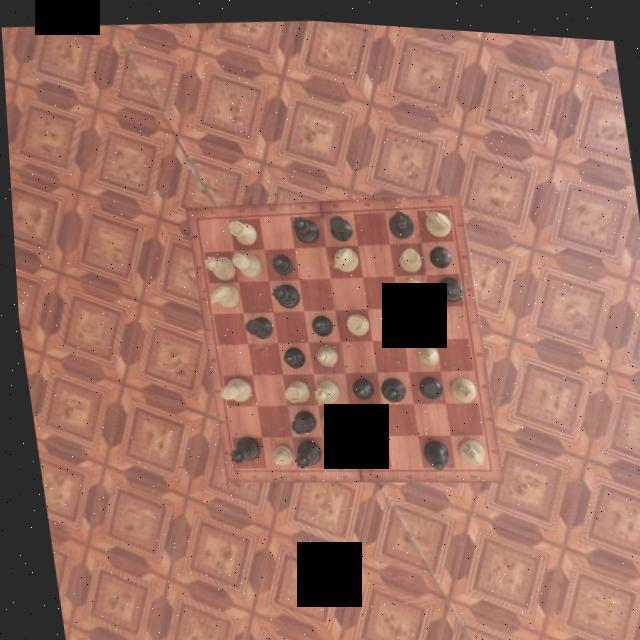chess-table-corners: (468, 452, 498, 478), (435, 192, 453, 220), (216, 454, 238, 475), (190, 208, 206, 228)
